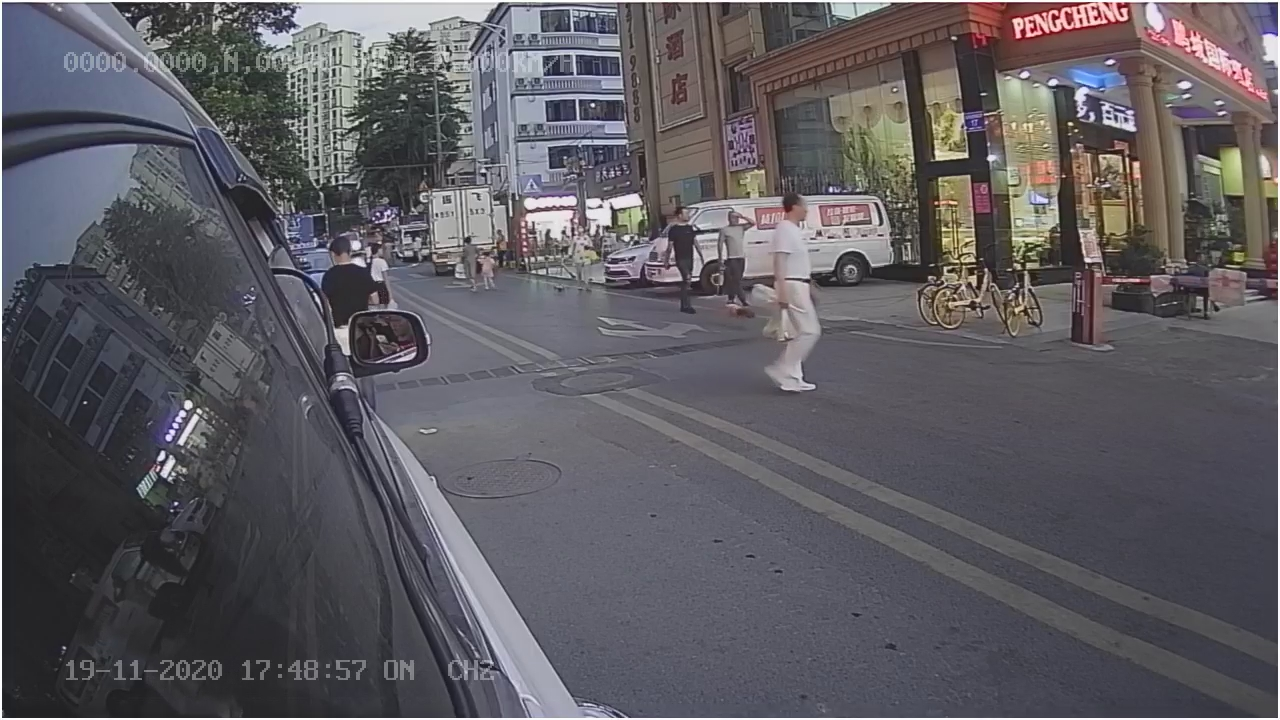person: (755, 191, 829, 401)
